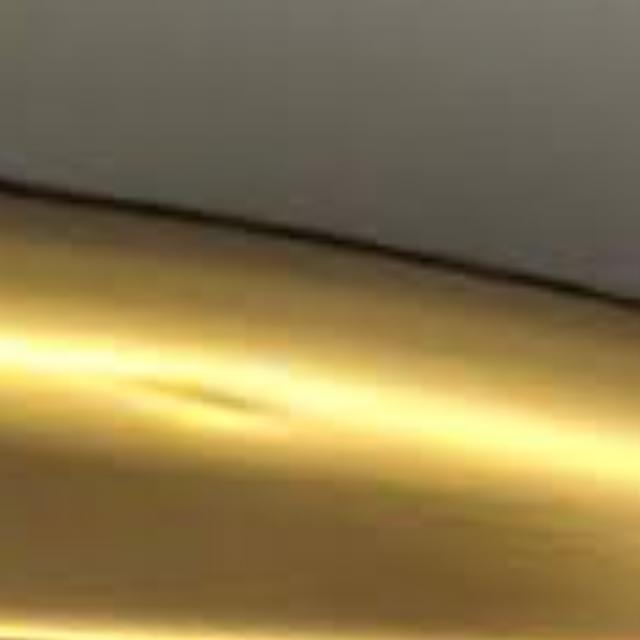dents: (119, 332, 281, 454)
